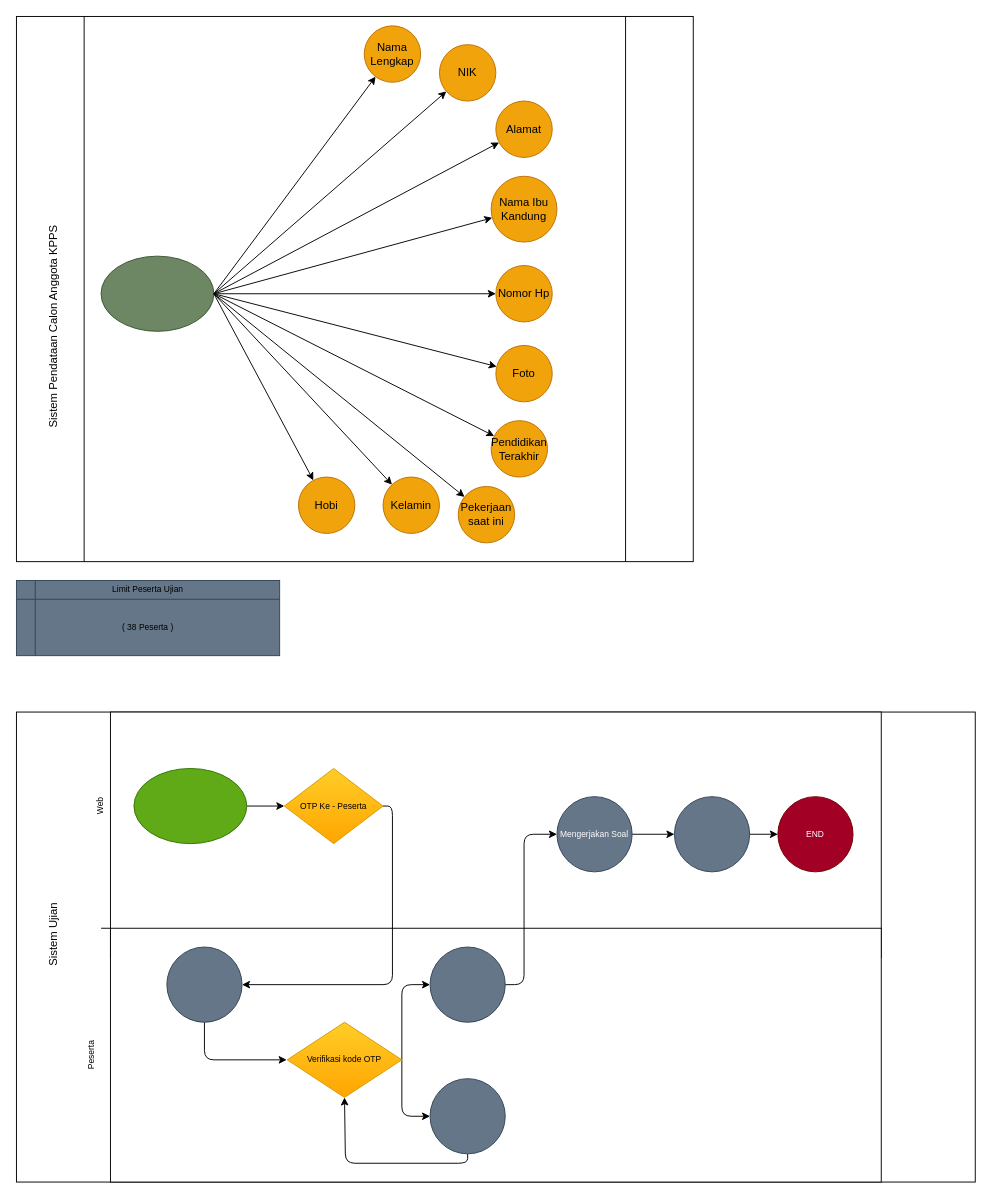
This 992x1199 diagram has some shape labels left out. Here are the shapes that lost their labels. From the top down, the box of each, then its label:
(100, 255, 214, 331): Data Peserta Tes KPPS
(133, 768, 247, 844): Sebelum Ujian
(674, 796, 750, 872): Waktu pengerjaan 15 menit (MAX)
(166, 946, 242, 1022): Masukkan kode OTP
(429, 946, 505, 1022): Kode OTP benar
(429, 1078, 505, 1154): Kode OTP salah
